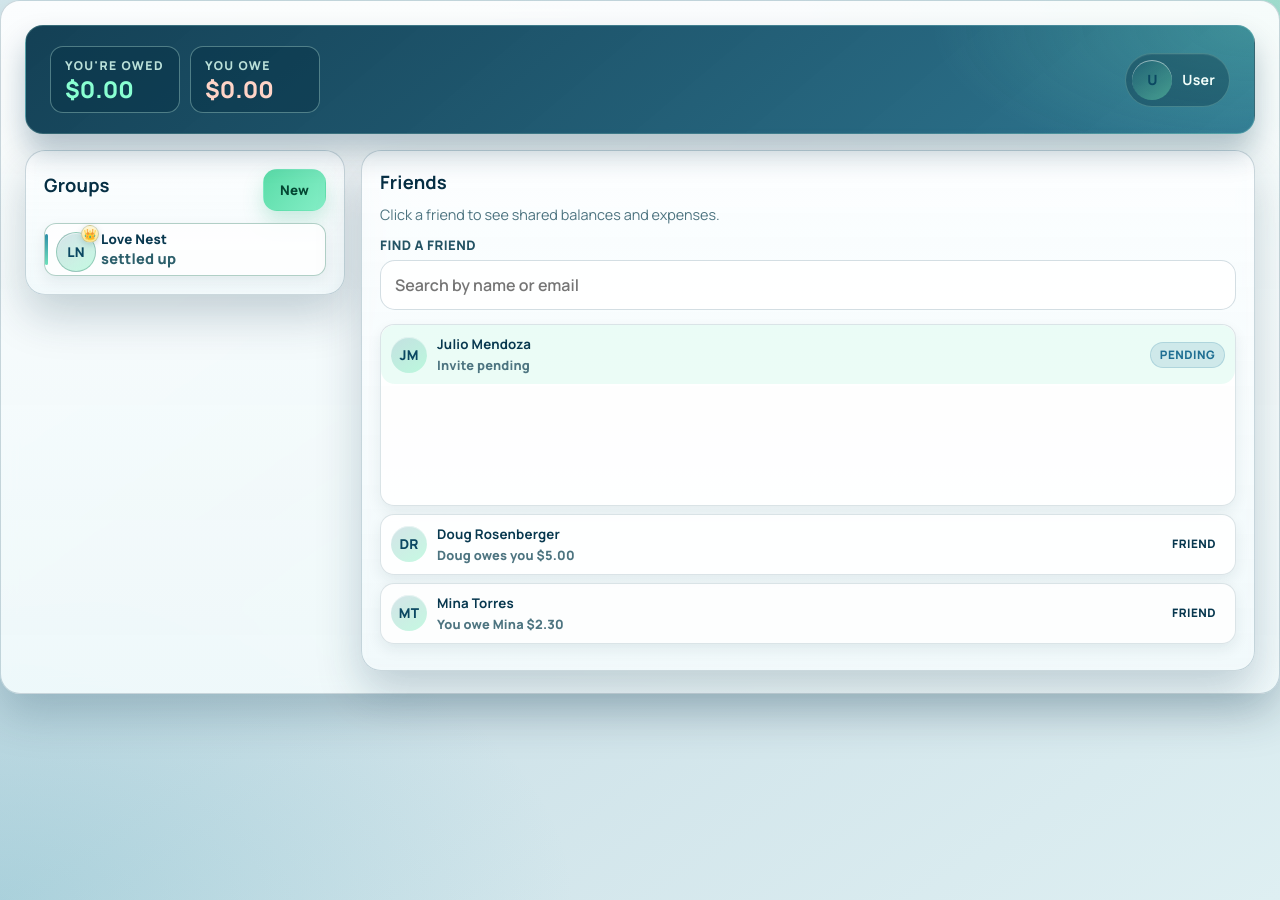
Test: DashboardView › filters friends by email on search
Type "doug@example" into the field labelled "Find a friend" at (808, 285), box x1=380 y1=260 x2=1236 y2=310
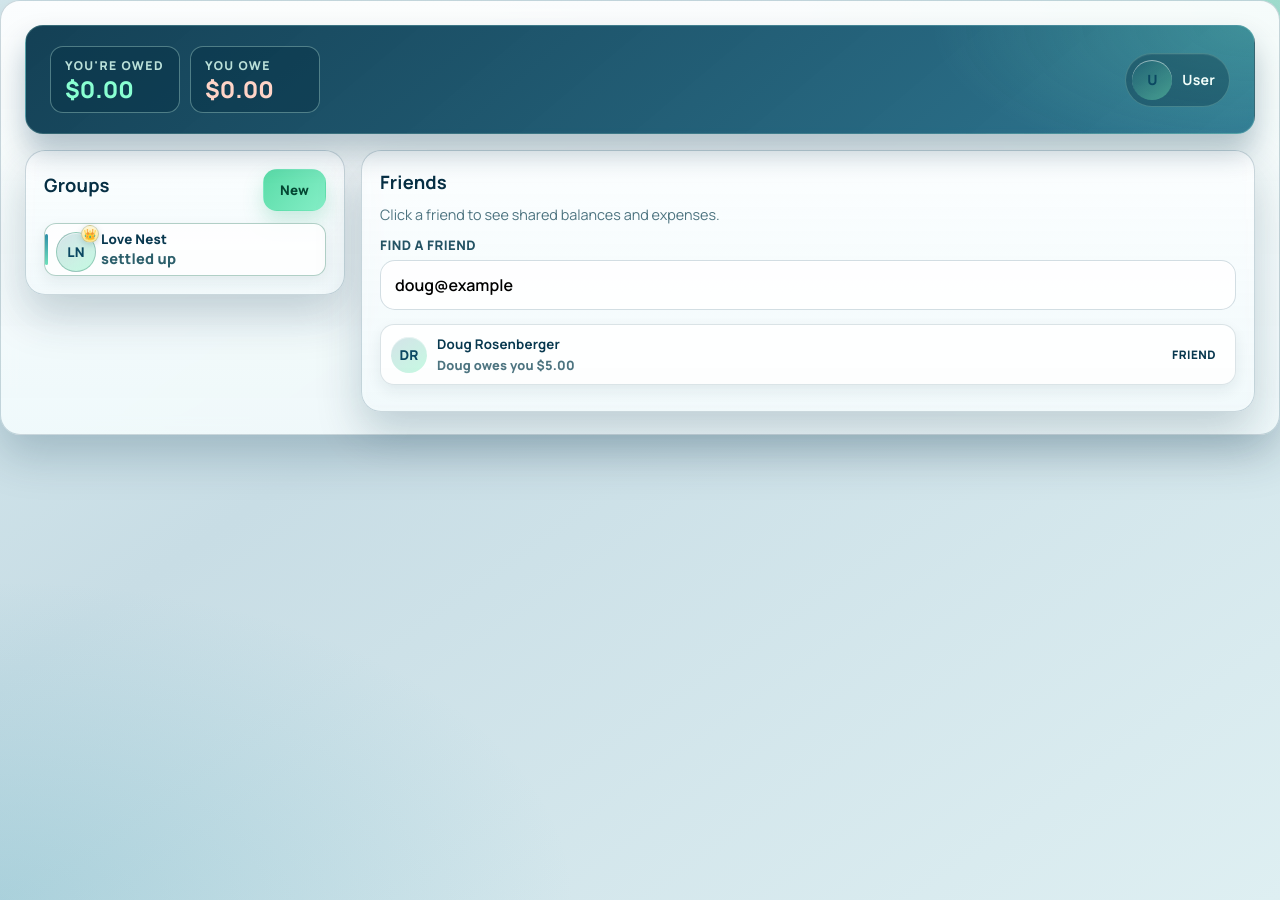
expect the button "DR Doug Rosenberger Doug owes you $5.00 Friend" is shown: met, box x1=381 y1=325 x2=1235 y2=384
expect the button "Mina Torres" is gone: met
